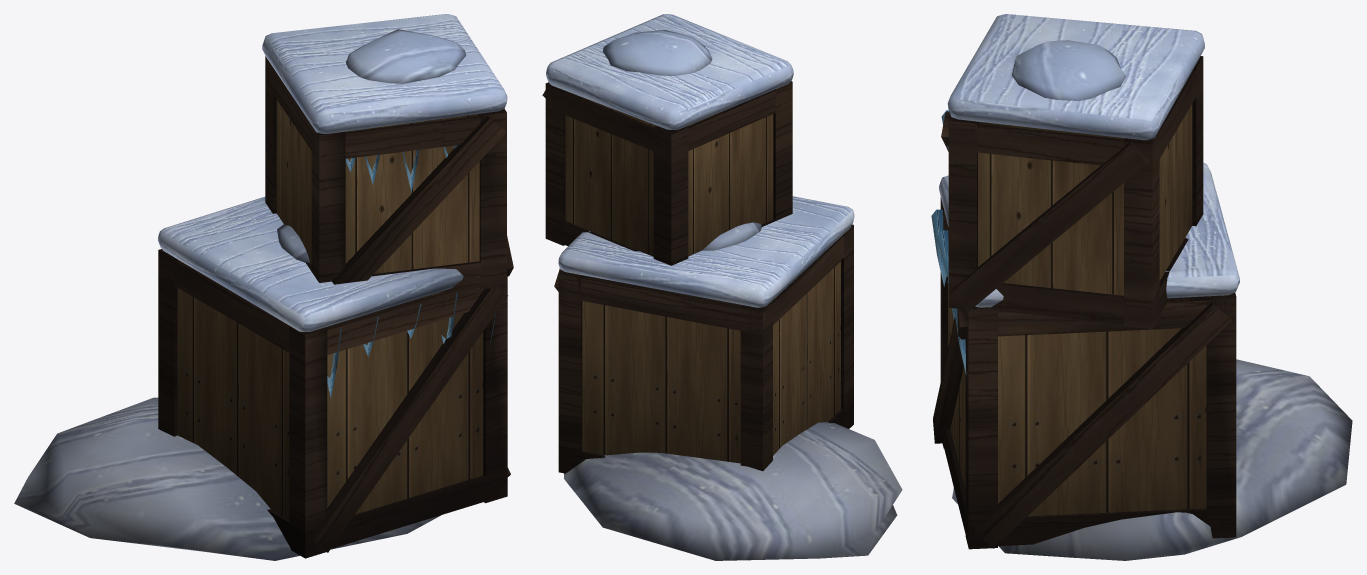
Rendered from rimeshore_crate.glb.
The picture shows the model from 3 angles, left to right: view 1: azimuth 30°, elevation 25°; view 2: azimuth 150°, elevation 25°; view 3: azimuth 270°, elevation 25°; orthographic projection. The views are drawn at different scales.
Parts seen in each view (by area): view 1: rimeshore_crate; view 2: rimeshore_crate; view 3: rimeshore_crate.
Boxes of the visible parts, <box> form: rimeshore_crate: <box>14,14,513,560</box>; rimeshore_crate: <box>542,14,902,560</box>; rimeshore_crate: <box>931,14,1352,560</box>.
Size of the model in its own units: 1.2 by 1.25 by 1.
4 materials, 4 textured.
